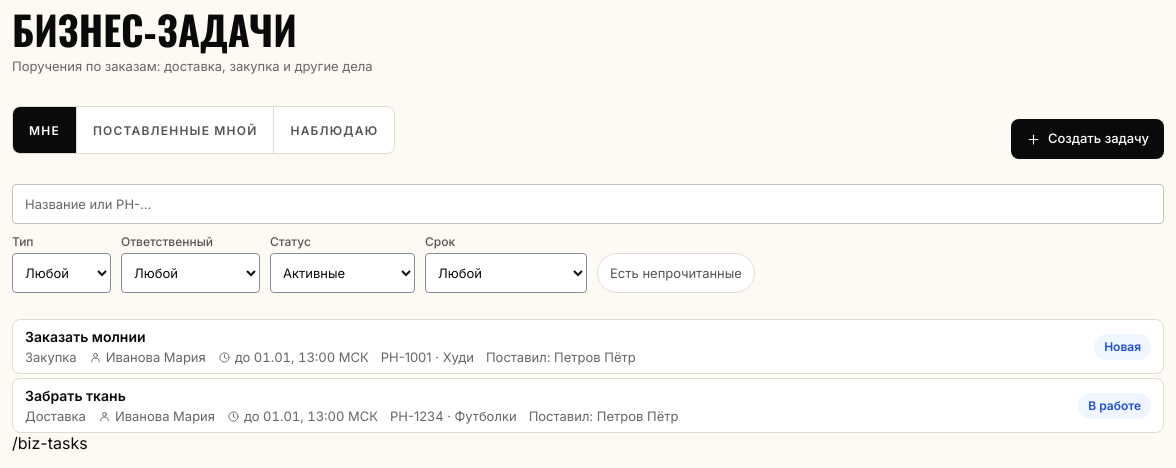
BizTasksScreen › поиск по PH-1234
expect the link "Заказать молнии" is shown: met, box x1=12 y1=319 x2=1164 y2=374
In the search field named "Поиск": [588, 204] box x1=12 y1=184 x2=1164 y2=224, type "ph-1234"
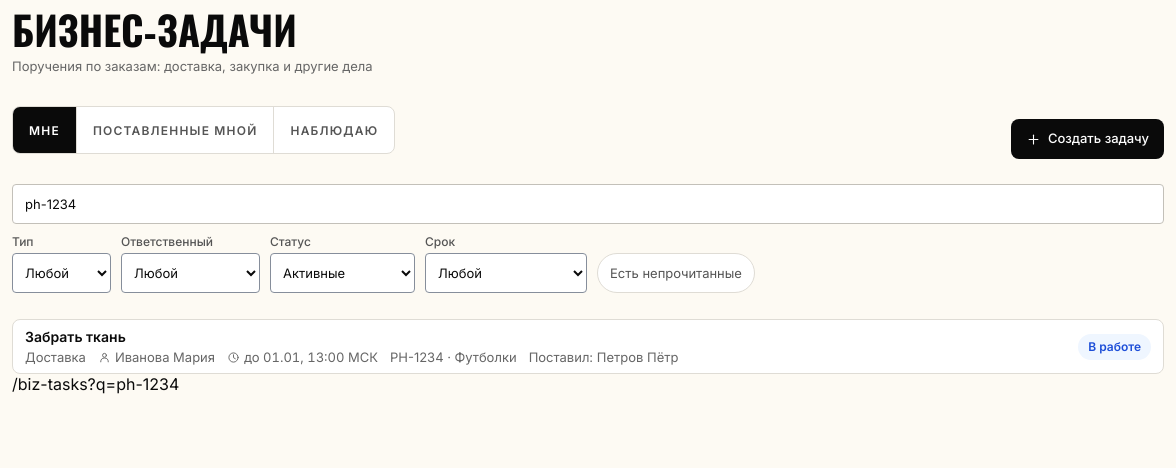
expect the link "Забрать ткань" is shown: met, box x1=12 y1=319 x2=1164 y2=374
expect the text with test id "where" shows "q=ph-1234": met, box x1=12 y1=374 x2=179 y2=394
По названию — тоже
Replace the text in the search field named "Поиск" with "молни": [588, 204] box x1=12 y1=184 x2=1164 y2=224
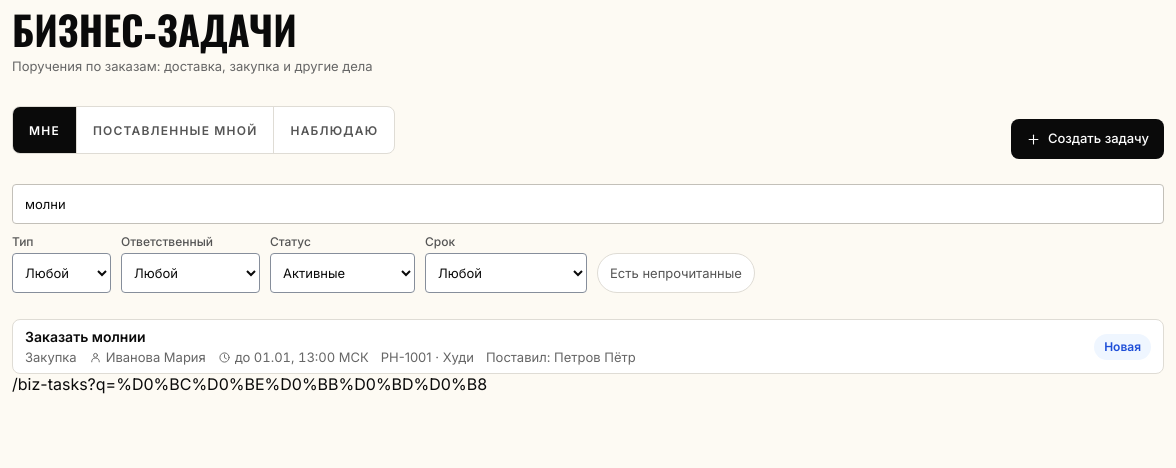
expect the link "Заказать молнии" is shown: met, box x1=12 y1=319 x2=1164 y2=374
